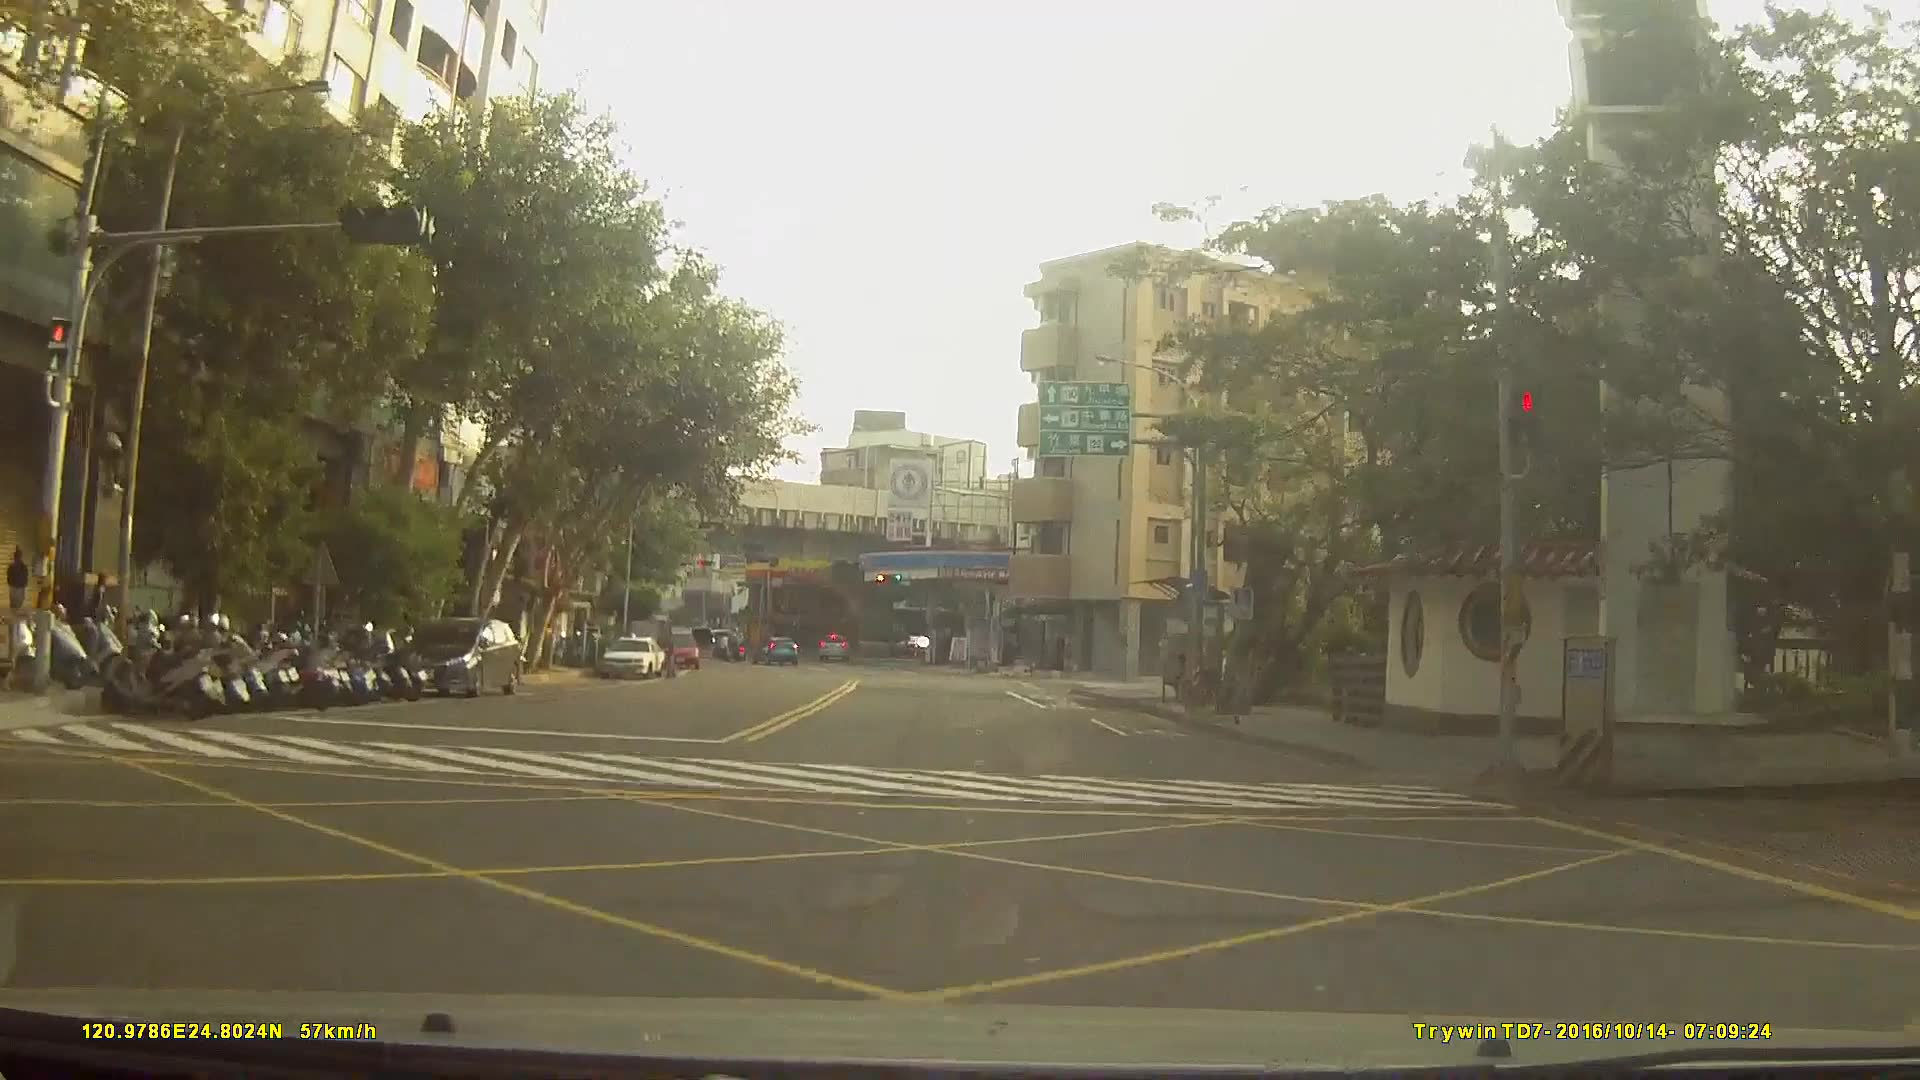pedestrian: (7, 545, 33, 631)
vehicle: (391, 614, 523, 698), (598, 633, 665, 678), (656, 631, 699, 670), (752, 632, 797, 664), (816, 633, 851, 661)
